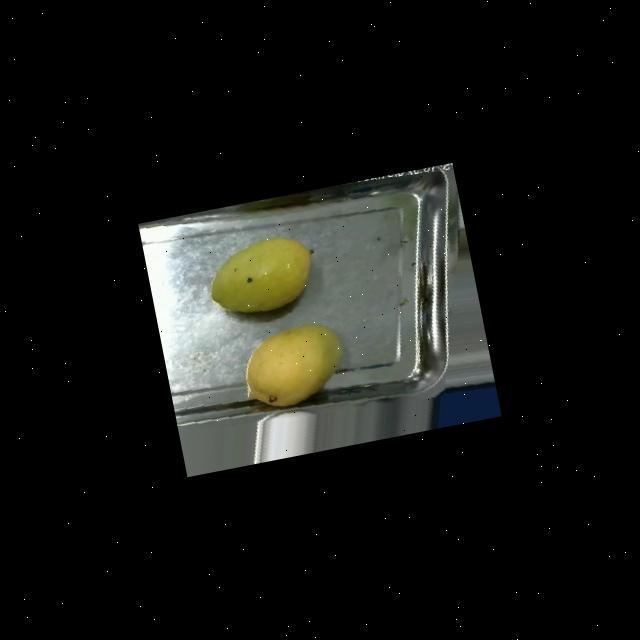Mango: (236, 317, 350, 413), (202, 230, 322, 321)
